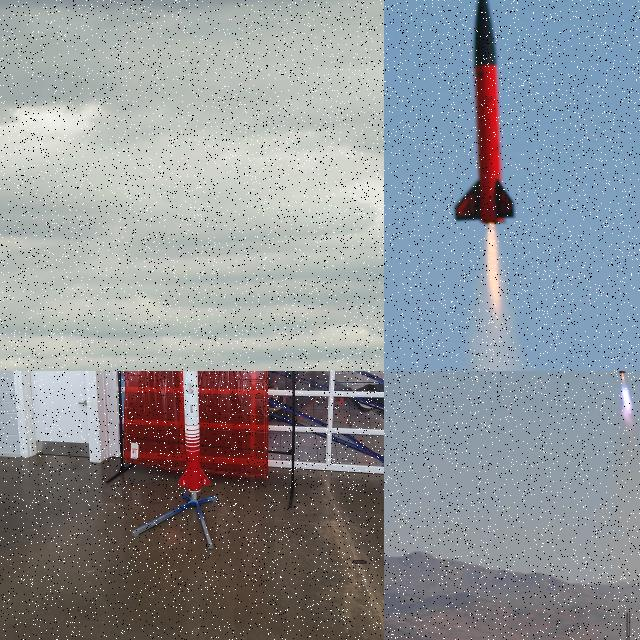Rocket: (454, 0, 516, 225), (178, 371, 210, 491)
